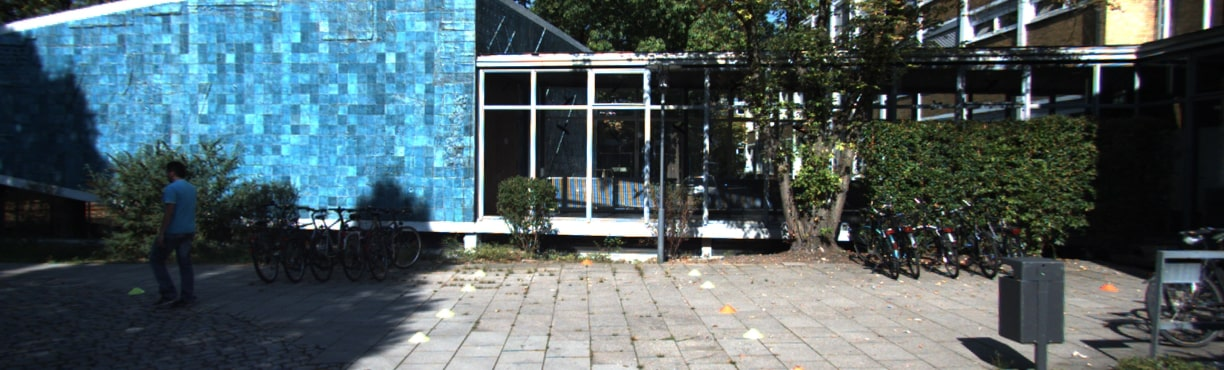person: (153, 154, 197, 315)
